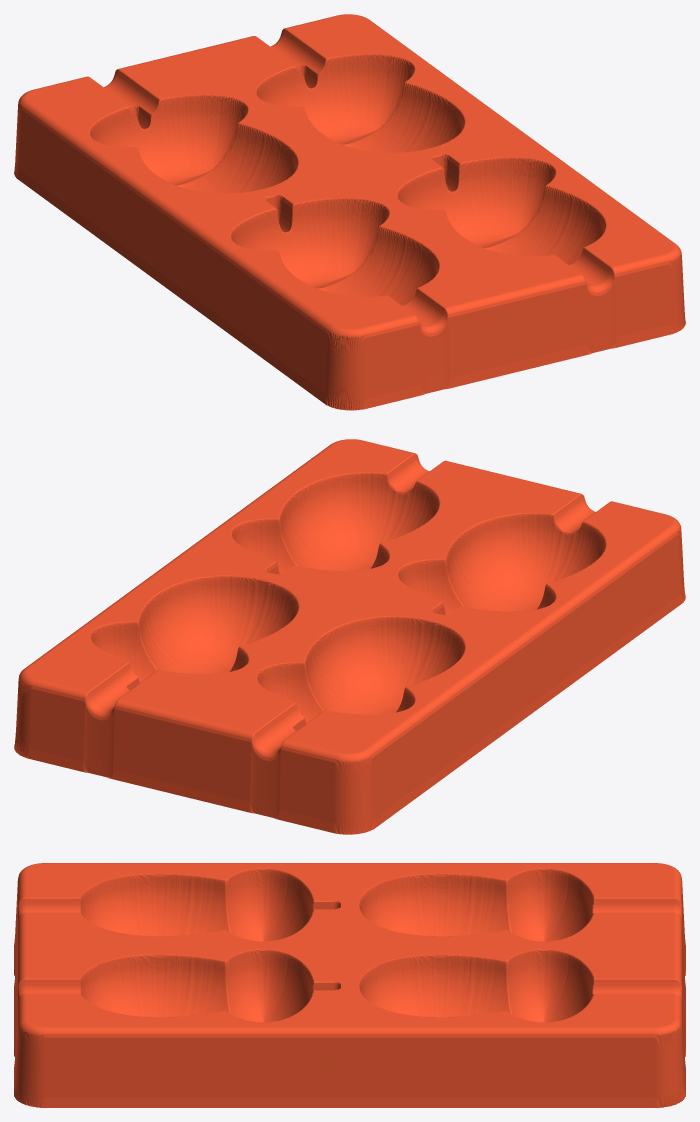
Rendered from mold.glb.
The picture shows the model from 3 angles, top to bottom: view 1: azimuth 30°, elevation 25°; view 2: azimuth 150°, elevation 25°; view 3: azimuth 270°, elevation 25°; orthographic projection.
Parts seen in each view (by area): view 1: geometry_0; view 2: geometry_0; view 3: geometry_0.
Part boxes in pixels (bbox=[...]): geometry_0: bbox=[14, 14, 685, 410]; geometry_0: bbox=[14, 439, 685, 834]; geometry_0: bbox=[14, 863, 685, 1107].
Size of the model in its own units: 0.1203 by 0.0245 by 0.1968.
